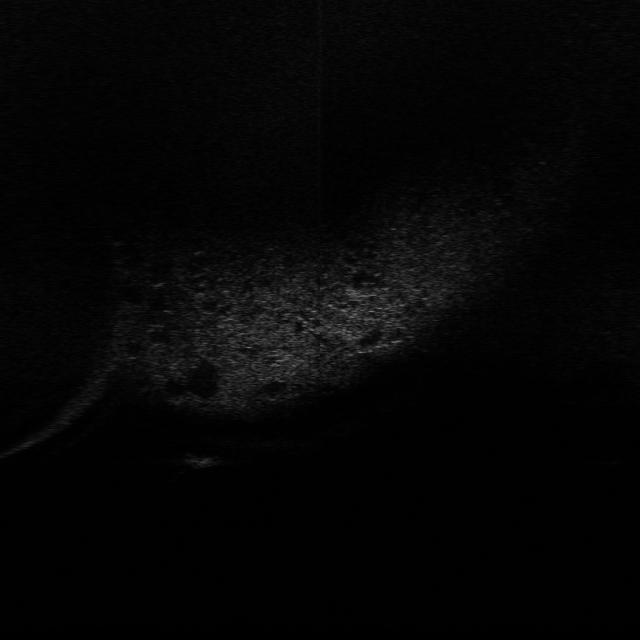cube: (172, 448, 228, 471)
